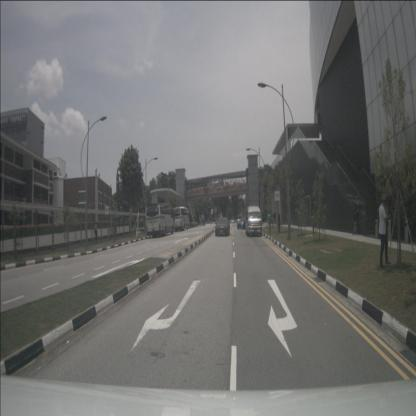human-pedestrian-adult: (379, 193, 392, 270), (353, 204, 359, 234), (268, 210, 274, 235), (277, 208, 281, 233), (94, 221, 98, 242), (274, 211, 276, 222)
vehicle-bus-rigid: (146, 202, 175, 238), (171, 206, 190, 230)
vehicle-car: (246, 206, 262, 237), (215, 216, 230, 236), (237, 217, 252, 229), (237, 216, 245, 223)
